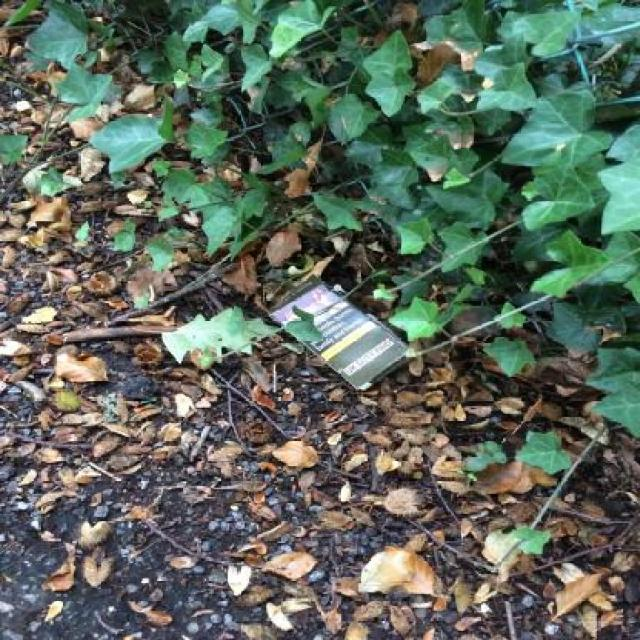Garbage: (268, 274, 413, 390)
